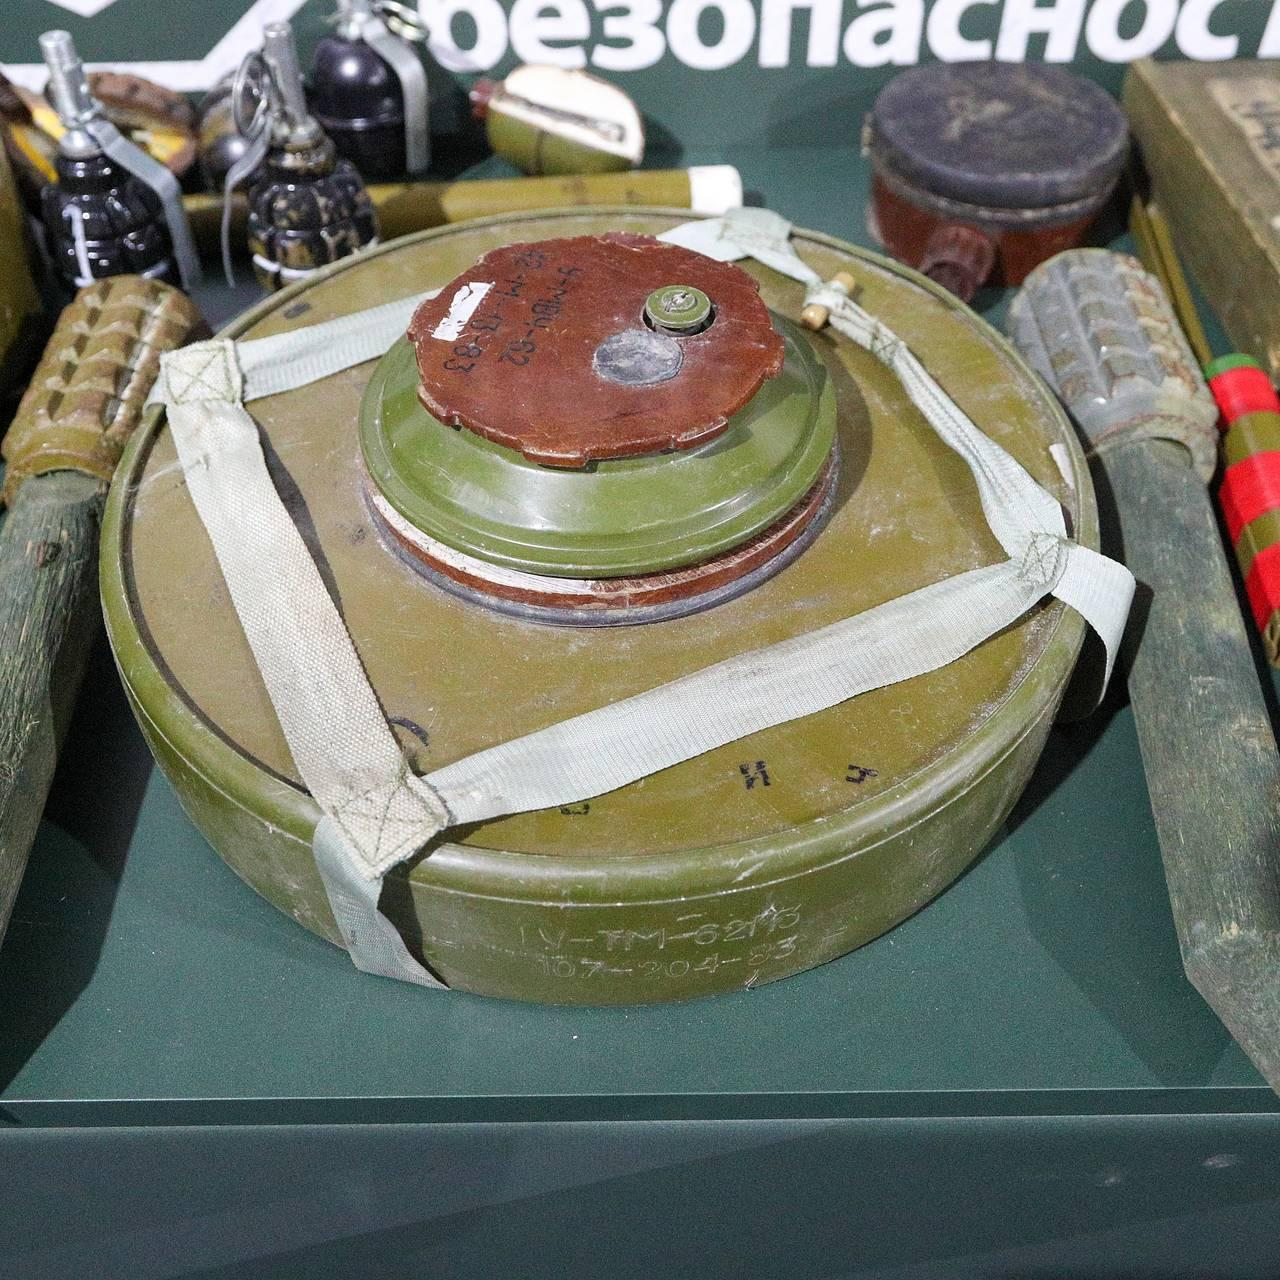TM 62: (100, 206, 1121, 1012)
